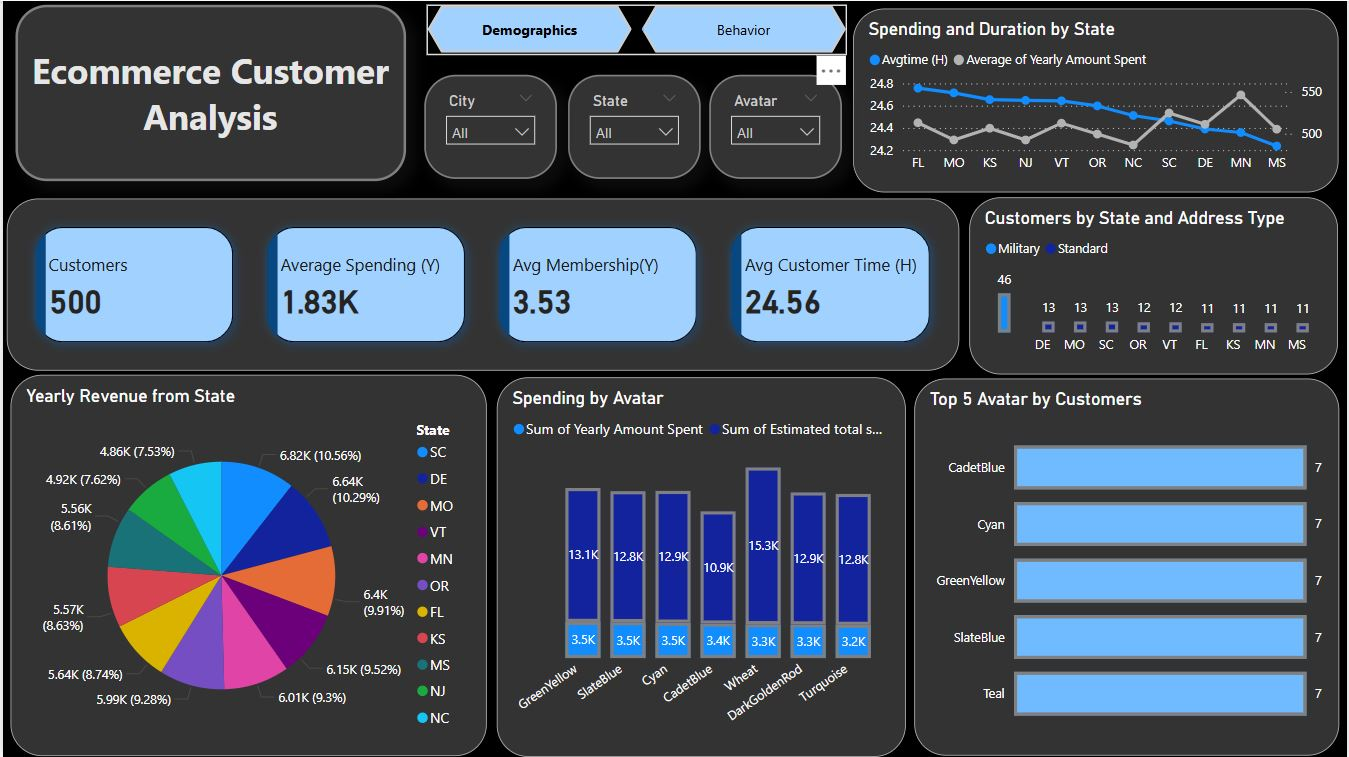

The page's visual inventory and layout, read from the dashboard file:
{"tool":"powerbi","page":{"name":"Demographics","canvas":[1280,720],"ordinal":0},"visuals":[{"type":"barChart","title":"Top 5 Avatar by Customers","fields":{"Category":["Ecommerce_data_week2_final.Avatar"],"Y":["CountNonNull(Ecommerce_data_week2_final.Email)"]},"box":[867.9,359.5,404.8,359.5],"z":0},{"type":"slicer","fields":{"Values":["Ecommerce_data_week2_final.State"]},"box":[538.1,70.2,126.2,98.8],"z":1000},{"type":"clusteredColumnChart","fields":{"Category":["Ecommerce_data_week2_final.State"],"Series":["Ecommerce_data_week2_final.Address Type"],"Y":["CountNonNull(Ecommerce_data_week2_final.Email)"]},"box":[920.2,186.9,351.2,169],"z":2000},{"type":"pieChart","title":"Yearly Revenue from State","fields":{"Y":["Sum(Ecommerce_data_week2_final.Yearly Amount Spent)"],"Category":["Ecommerce_data_week2_final.State"]},"box":[7.1,356,453.6,363.1],"z":3000},{"type":"columnChart","title":"Spending by Avatar","fields":{"Category":["Ecommerce_data_week2_final.Avatar"],"Y":["Sum(Ecommerce_data_week2_final.Yearly Amount Spent)","Sum(Ecommerce_data_week2_final.Estimated total spending)"]},"box":[470.2,358.1,389.3,361.9],"z":4000},{"type":"lineChart","title":"Spending and Duration by State","fields":{"Category":["Ecommerce_data_week2_final.State"],"Y":["Avg(Ecommerce_data_week2_final.avgtime)"],"Y2":["Avg(Ecommerce_data_week2_final.Yearly Amount Spent)"]},"box":[809.3,7.2,462.3,175.3],"z":5000},{"type":"slicer","fields":{"Values":["Ecommerce_data_week2_final.City"]},"box":[401.2,70.2,126.2,98.8],"z":6000},{"type":"cardVisual","fields":{"Data":["CountNonNull(Ecommerce_data_week2_final.Address)","Avg(Ecommerce_data_week2_final.Estimated total spending)","Avg(Ecommerce_data_week2_final.Length of Membership)","Avg(Ecommerce_data_week2_final.avgtime)"]},"box":[3.6,188.1,907.1,164.3],"z":7000},{"type":"slicer","fields":{"Values":["Ecommerce_data_week2_final.Avatar"]},"box":[672.6,70.2,126.2,98.8],"z":8000},{"type":"pageNavigator","box":[403.7,3.7,400,47.6],"z":9000},{"type":"actionButton","box":[12,3.6,372.2,168.1],"z":10000}]}

Visuals, with their boxes in screenshot pixels (x1, y1, x2, y2), scaled from the page's 1280x720 canvas onto the 1349x757 screenshot:
"Top 5 Avatar by Customers" barChart: <bbox>915, 378, 1341, 756</bbox>
slicer - Ecommerce_data_week2_final.State: <bbox>567, 74, 700, 178</bbox>
clusteredColumnChart - Ecommerce_data_week2_final.State x Ecommerce_data_week2_final.Address Type: <bbox>970, 197, 1340, 374</bbox>
"Yearly Revenue from State" pieChart: <bbox>7, 374, 486, 756</bbox>
"Spending by Avatar" columnChart: <bbox>496, 377, 906, 756</bbox>
"Spending and Duration by State" lineChart: <bbox>853, 8, 1340, 192</bbox>
slicer - Ecommerce_data_week2_final.City: <bbox>423, 74, 556, 178</bbox>
cardVisual - CountNonNull(Ecommerce_data_week2_final.Address) x Avg(Ecommerce_data_week2_final.Estimated total spending): <bbox>4, 198, 960, 371</bbox>
slicer - Ecommerce_data_week2_final.Avatar: <bbox>709, 74, 842, 178</bbox>
pageNavigator: <bbox>425, 4, 847, 54</bbox>
actionButton: <bbox>13, 4, 405, 181</bbox>
